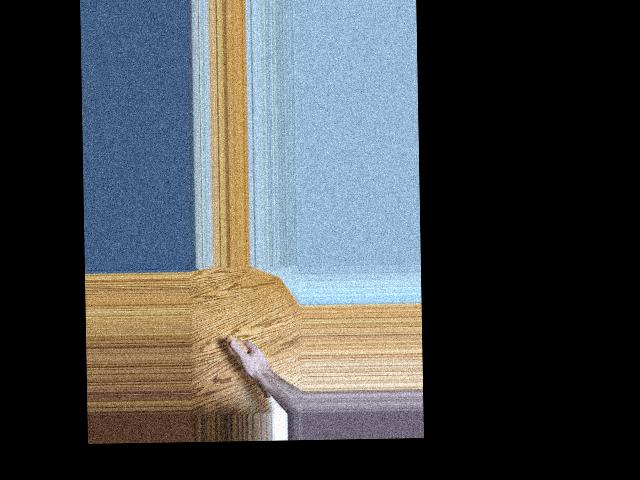sweet_potato: (224, 332, 270, 400)
